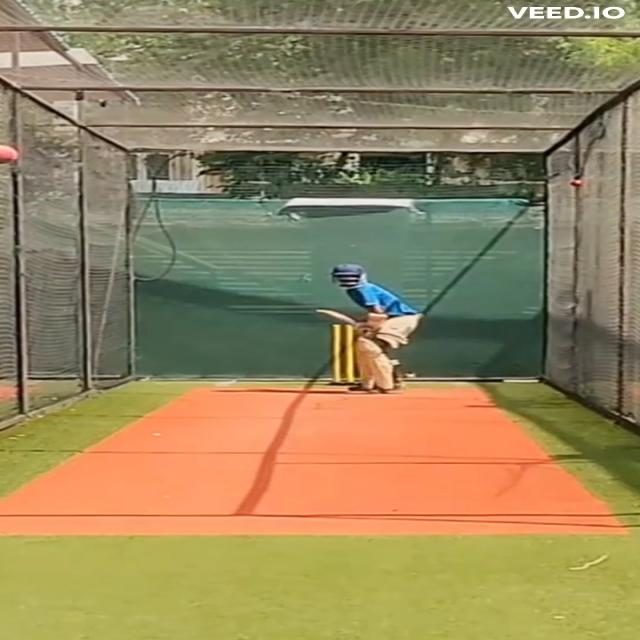ball: (0, 142, 25, 168)
stump: (330, 323, 356, 386)
